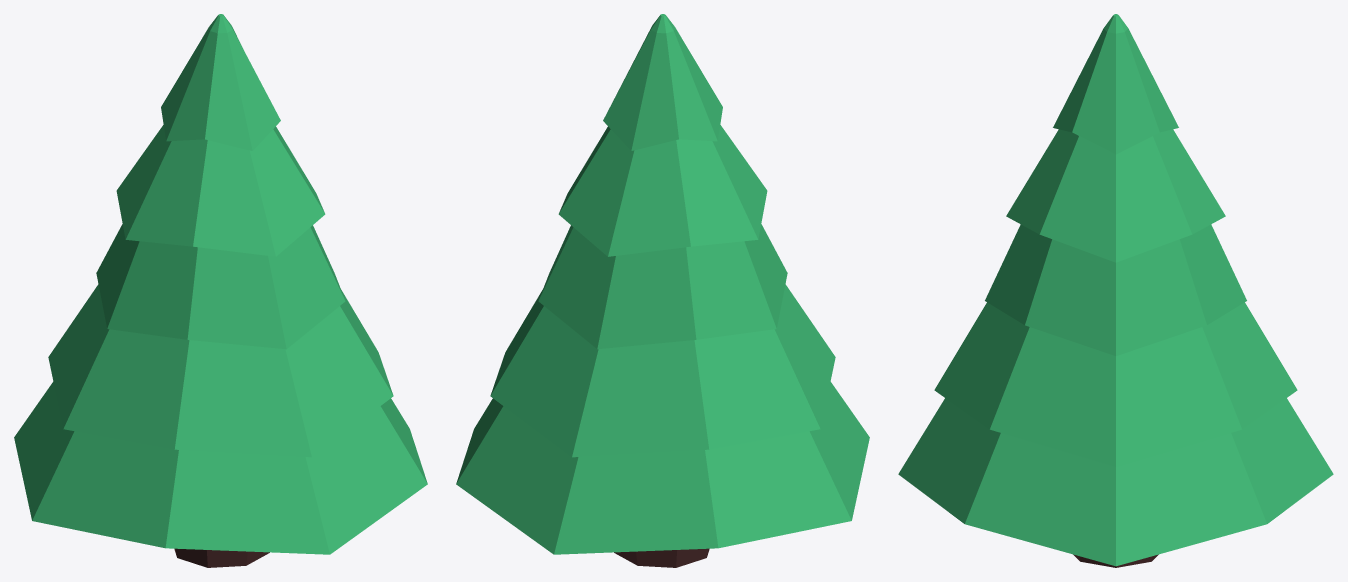
The model's file is ArbolTipo1.fbx.
3 views of the same model, side by side, from view 1: azimuth 30°, elevation 25°; view 2: azimuth 150°, elevation 25°; view 3: azimuth 270°, elevation 25° (orthographic).
Parts seen in each view (by area): view 1: Cylinder, Cylinder.001; view 2: Cylinder, Cylinder.001; view 3: Cylinder.
Boxes of the visible parts, x1,y1,x2,y2 form: Cylinder: (14, 14, 427, 554); Cylinder.001: (174, 548, 269, 567); Cylinder: (456, 14, 869, 554); Cylinder.001: (614, 548, 709, 567); Cylinder: (898, 14, 1333, 566).
Size of the model in its own units: 287 by 386 by 287.
